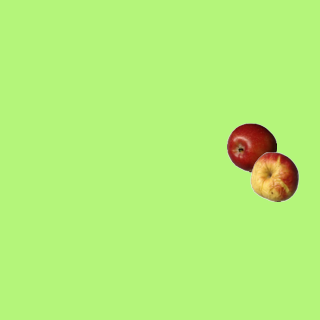Apple Braeburn: (226, 122, 276, 172)
Apple Red Yellow 1: (249, 151, 299, 201)
